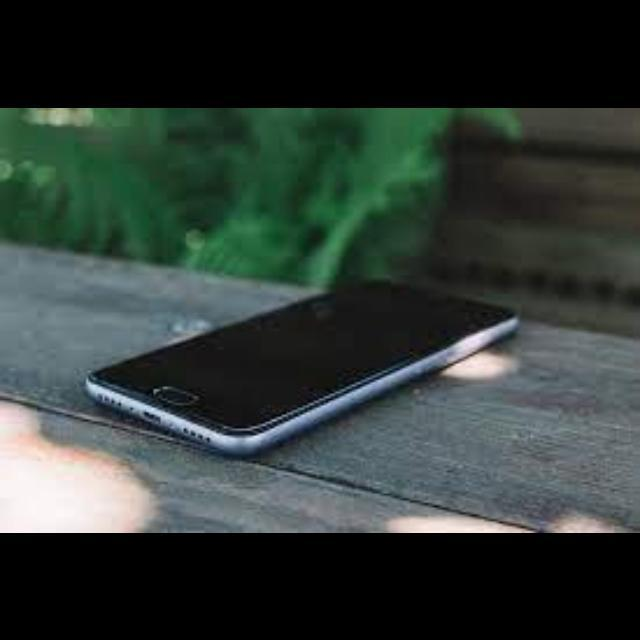phone: (77, 232, 563, 486)
